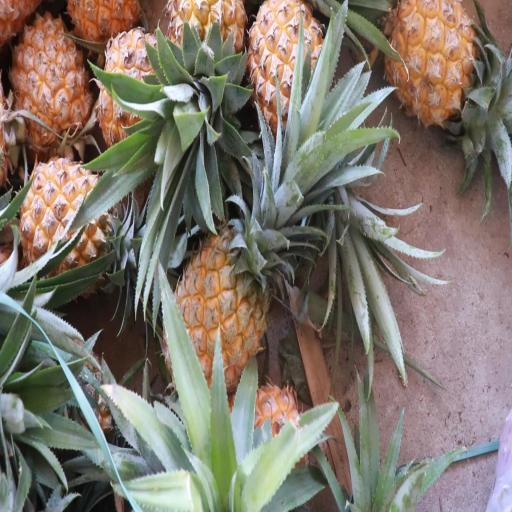Pineapple - v8 v1: (156, 209, 291, 402), (15, 152, 130, 310), (248, 2, 342, 171), (95, 16, 193, 178), (378, 0, 485, 142), (8, 14, 94, 171), (160, 0, 252, 137)
